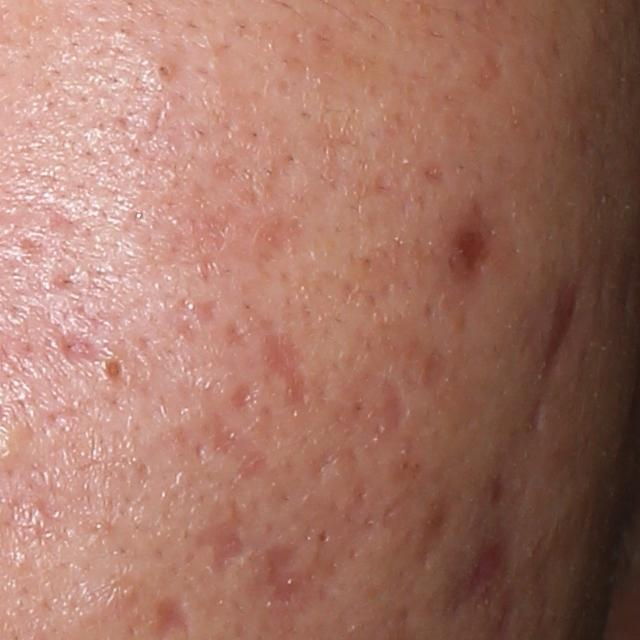atrophic_scar: (437, 528, 519, 622), (538, 280, 592, 386), (257, 317, 314, 415), (249, 538, 309, 615), (197, 499, 254, 577), (414, 485, 461, 569), (249, 213, 318, 270), (363, 369, 413, 446), (207, 407, 250, 458), (310, 442, 344, 486), (226, 379, 263, 413), (62, 331, 99, 364), (521, 397, 546, 435), (226, 320, 250, 351)
comedo: (96, 353, 134, 386), (150, 59, 174, 84)
